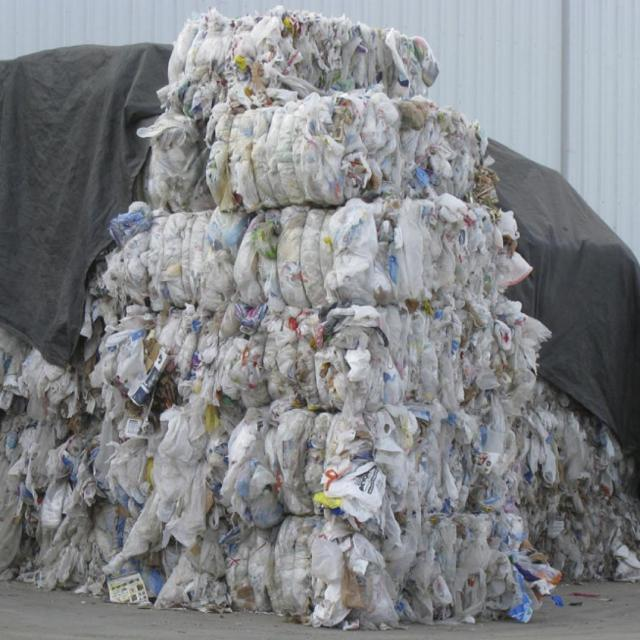heap: (15, 39, 639, 596), (117, 11, 547, 634)
